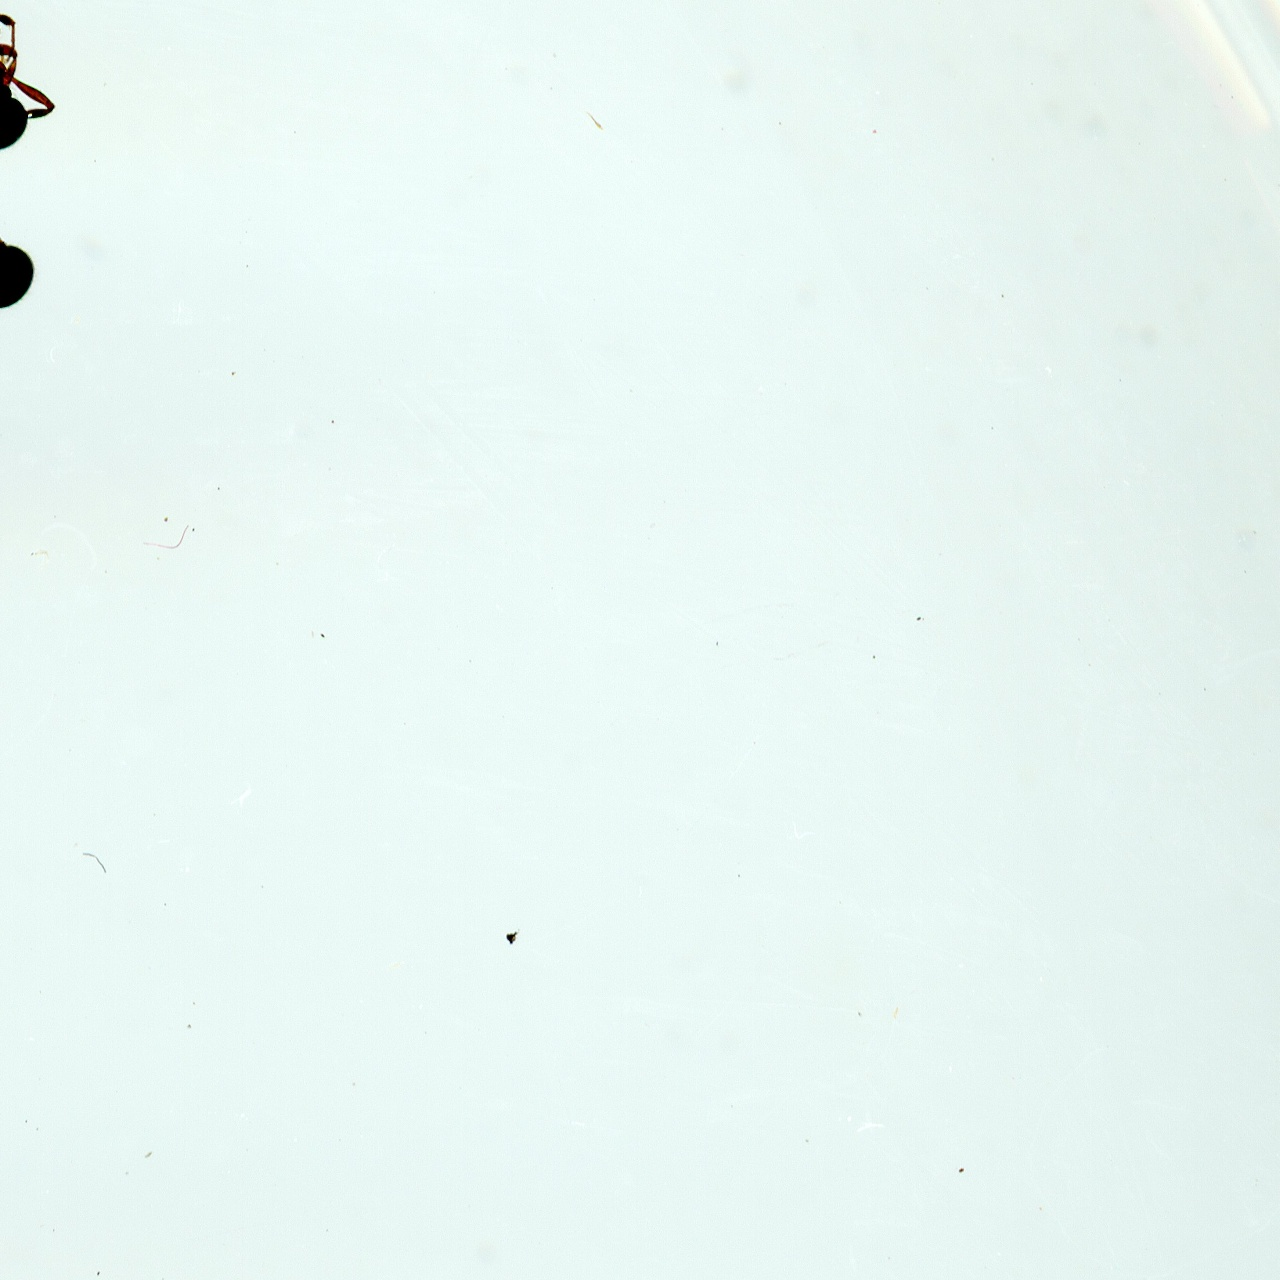arthropod: (0, 0, 68, 171)
